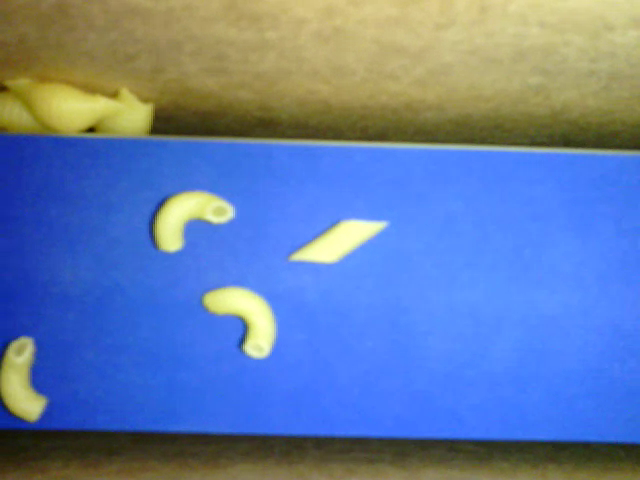elbow: (200, 285, 279, 362), (149, 188, 236, 253), (1, 334, 49, 422)
penne: (289, 217, 389, 266)
shell: (5, 75, 128, 136), (92, 85, 153, 137), (1, 88, 53, 135)
